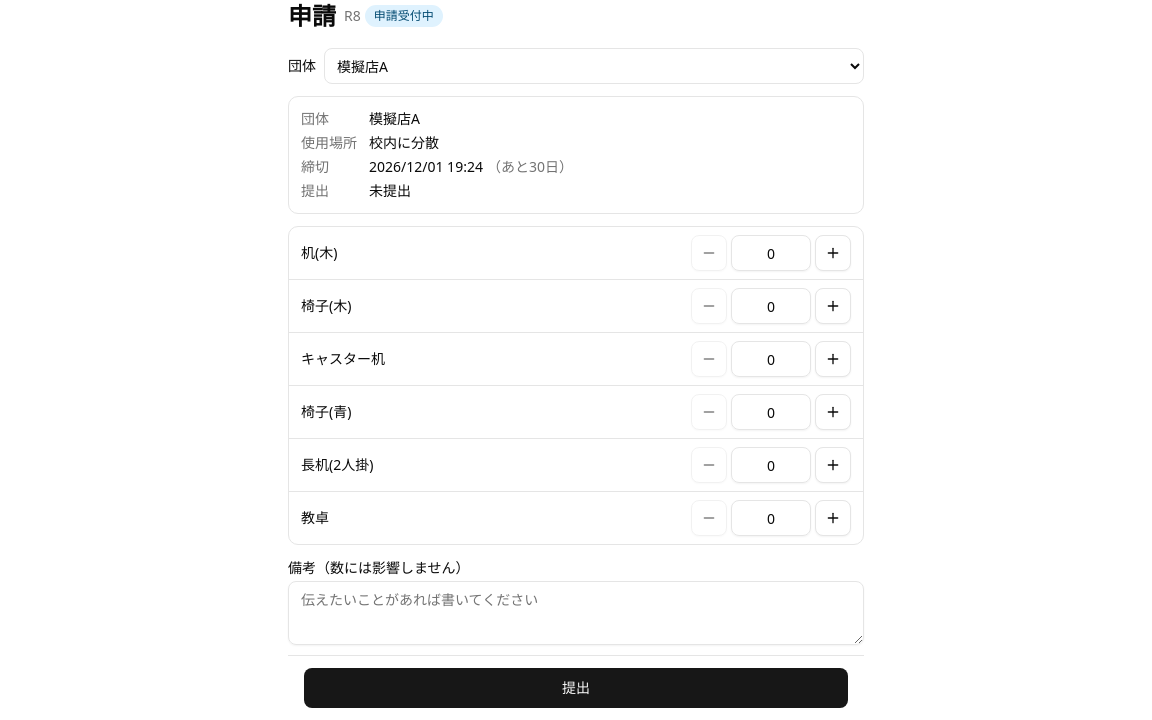
Scenario: 申請 /request › 提出の応答が届かなかったとき（設計 2.6 の (A)） › 応答が落ち、DB に入っていなければ、もう一度押すと送る
Click the button named "机(木)の数を1増やす": click(833, 253) [815, 235, 851, 271]
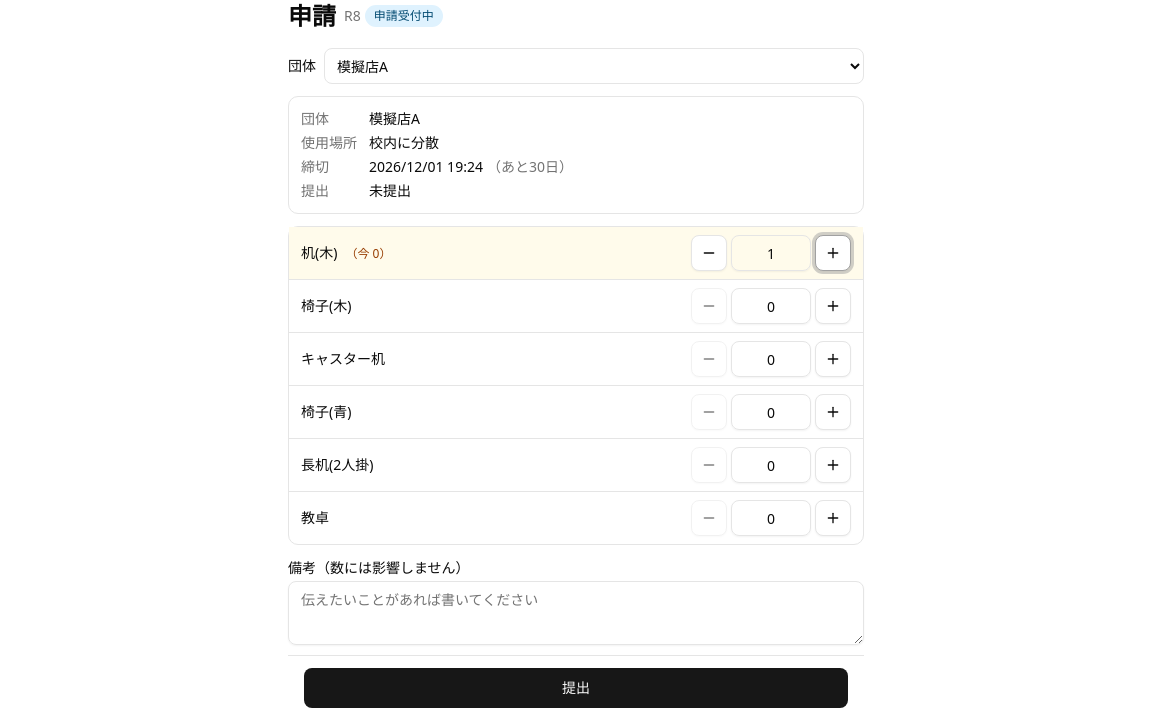
Click the button "提出": click(576, 688) [304, 668, 848, 708]
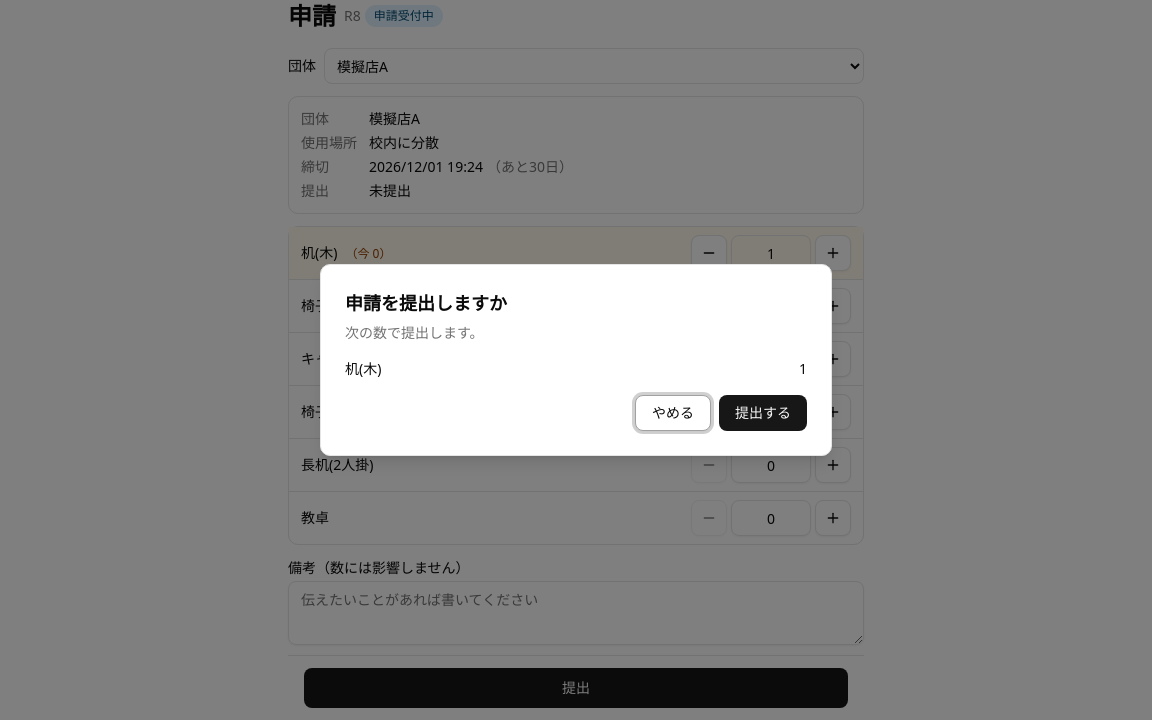
Click the button "提出する": click(763, 413) [719, 395, 807, 431]
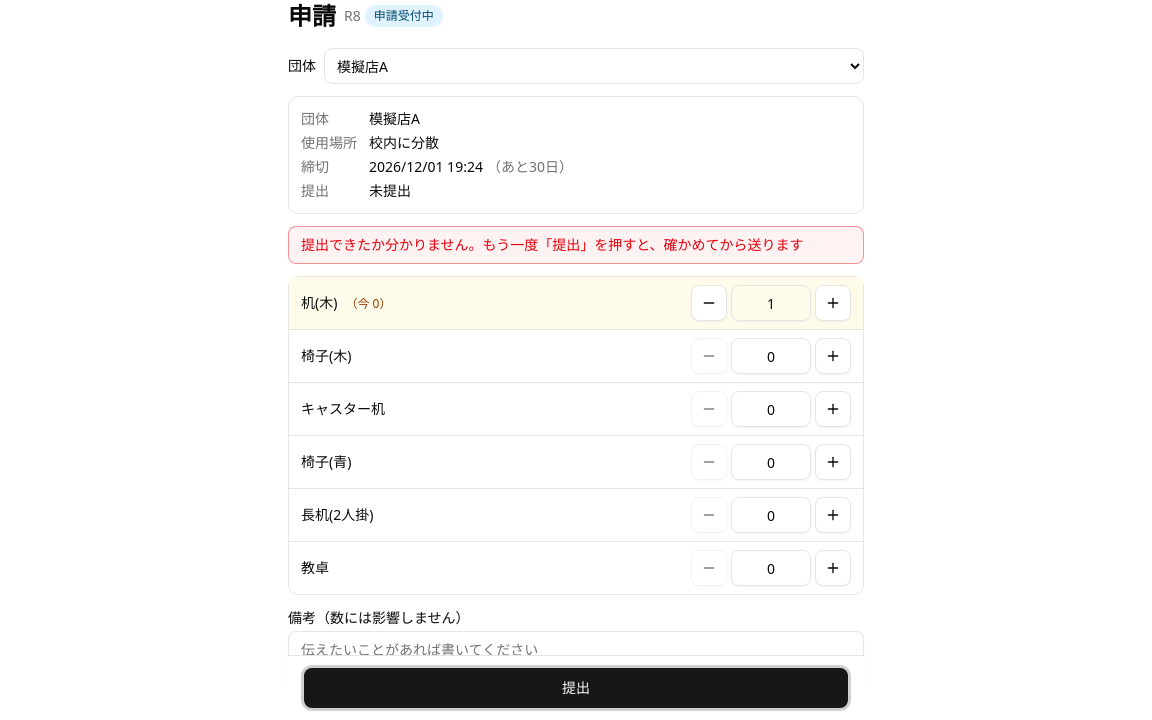
Expected: the message with test id "submit-error" reads "提出できたか分かりません。もう一度「提出」を押すと、確かめてから送ります", [301, 235, 804, 254]
Click the button "提出": click(576, 688) [304, 668, 848, 708]
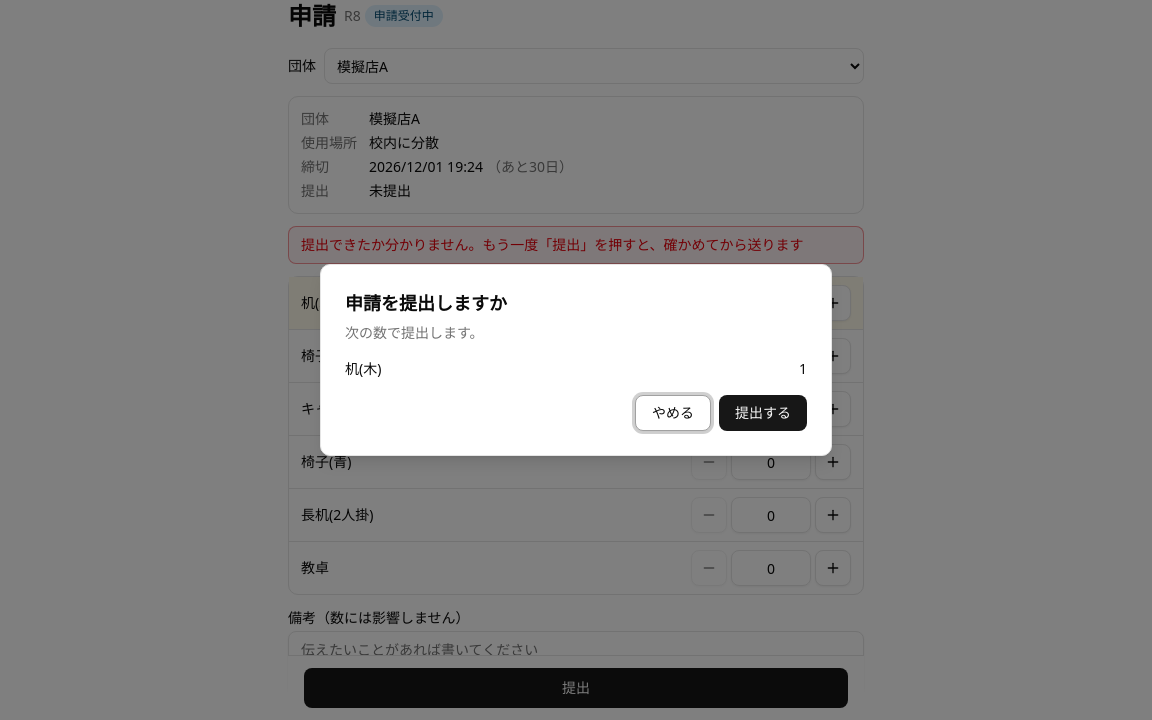
Click the button "提出する": click(763, 413) [719, 395, 807, 431]
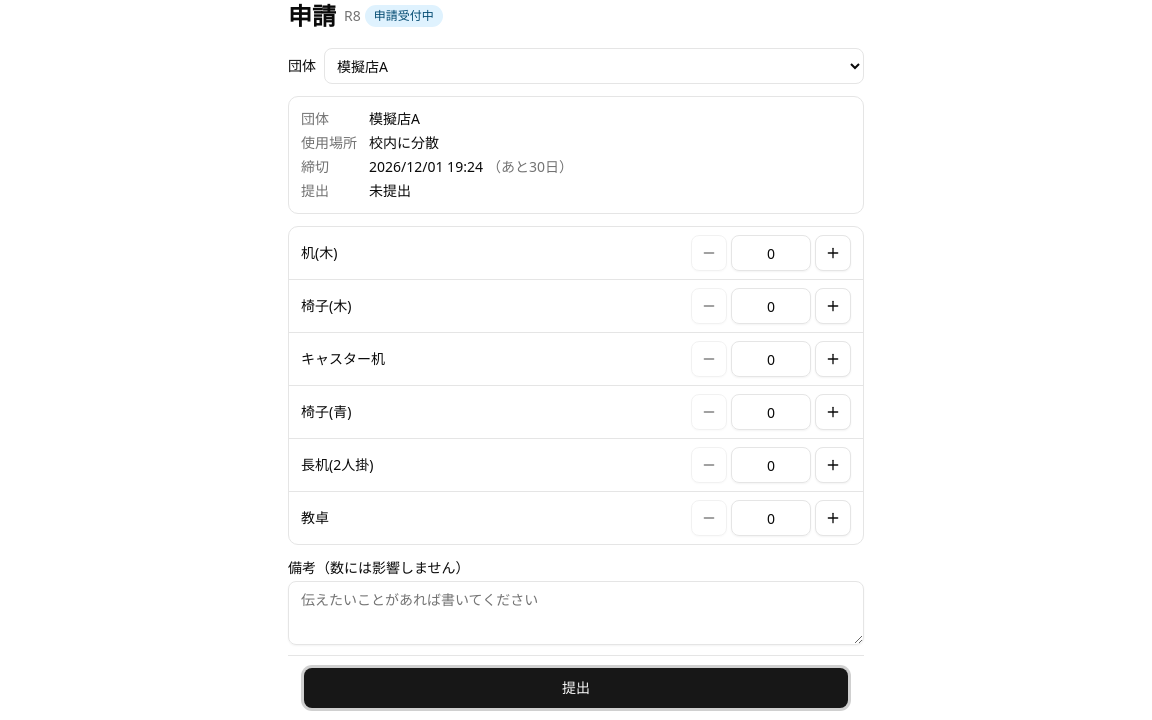
Expected: the message with test id "submit-error" is gone
